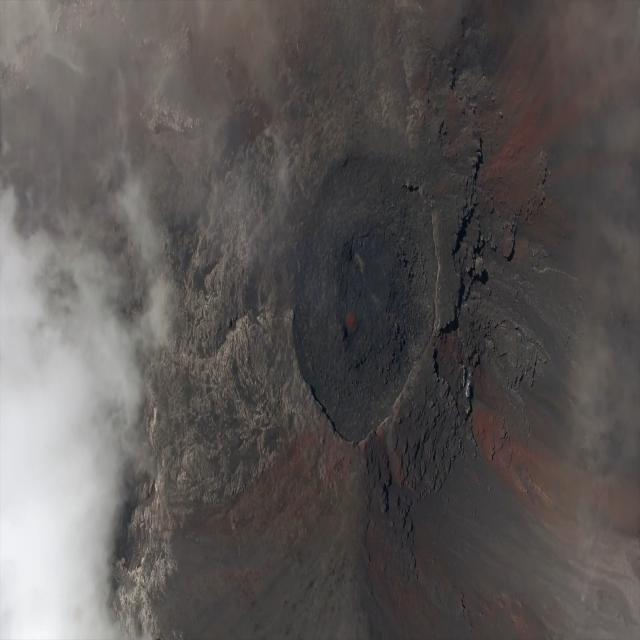Summit: (274, 115, 463, 478)
